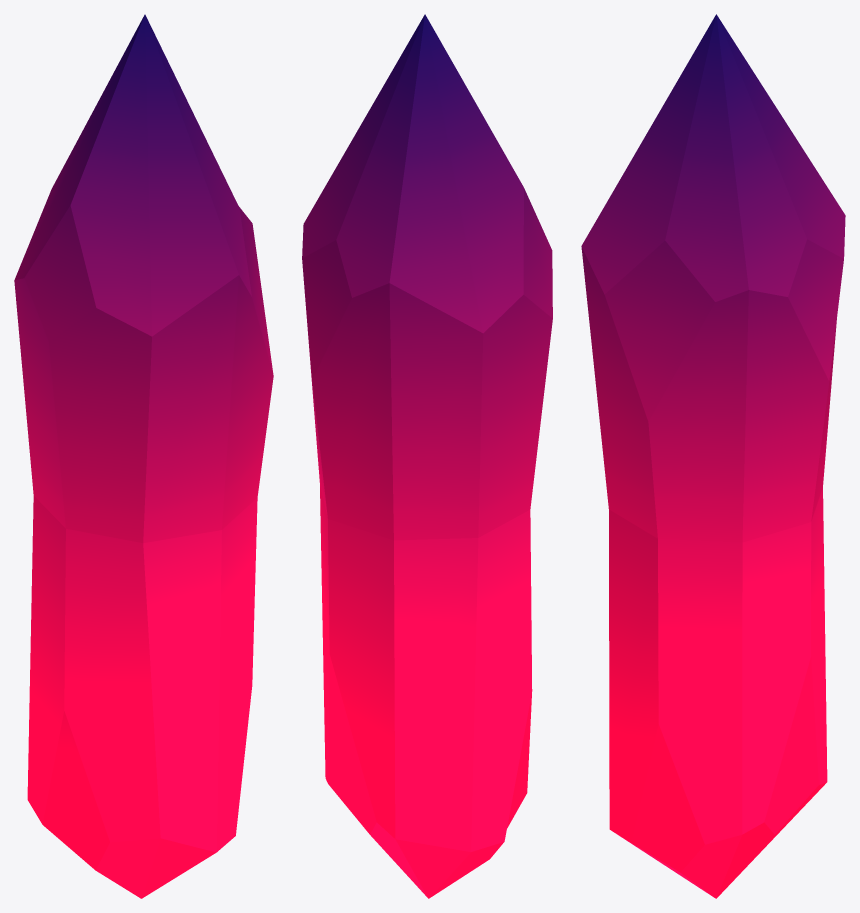
File: Crystall.fbx
The picture shows the model from 3 angles, left to right: view 1: azimuth 30°, elevation 25°; view 2: azimuth 150°, elevation 25°; view 3: azimuth 270°, elevation 25°; orthographic projection.
Parts seen in each view (by area): view 1: Circle.001; view 2: Circle.001; view 3: Circle.001.
Part boxes in pixels (x1,y1,x2,y2): Circle.001: (14, 14, 273, 898); Circle.001: (302, 14, 552, 898); Circle.001: (581, 14, 845, 898).
Bounding box in the file's own units: 2.73 × 10.54 × 2.84.
